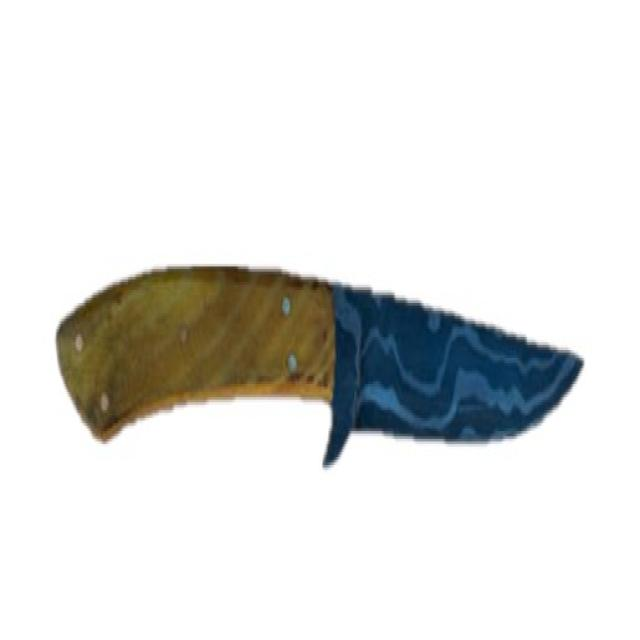knife: (52, 254, 600, 465)
